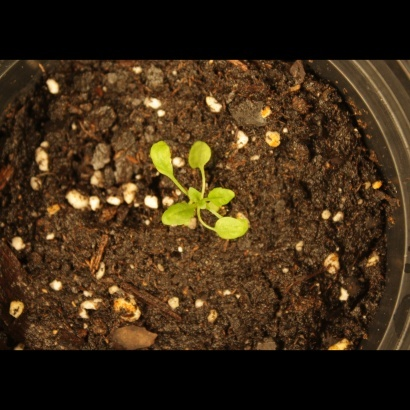leaf: (181, 135, 225, 174), (146, 137, 179, 186), (216, 214, 250, 248), (157, 202, 197, 230), (210, 185, 241, 208), (184, 182, 207, 205)
